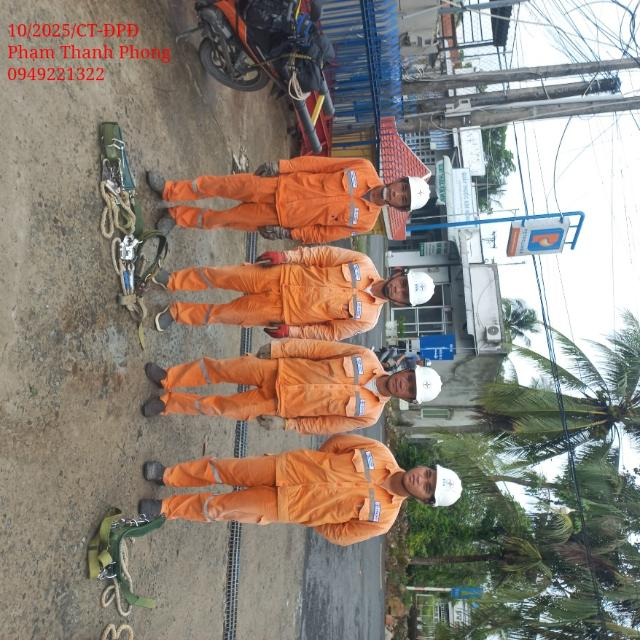gloves: (261, 304, 295, 347), (247, 150, 287, 186), (250, 241, 293, 273), (257, 340, 286, 367)
helmet: (403, 253, 443, 311), (411, 357, 448, 411), (395, 160, 430, 217), (430, 463, 466, 510)
shoes: (138, 294, 182, 342), (133, 451, 174, 495), (129, 491, 171, 528), (145, 200, 179, 243), (136, 384, 171, 421), (141, 169, 174, 200), (149, 256, 176, 293), (143, 357, 176, 383)
